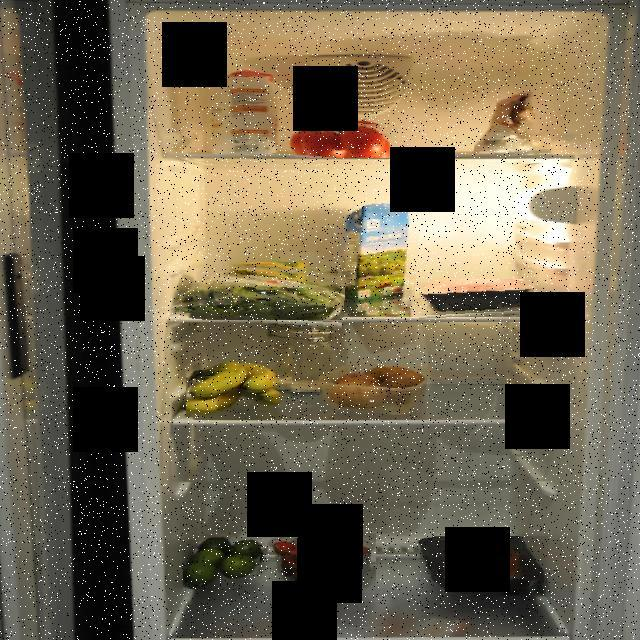banana: (186, 359, 294, 417)
beef: (418, 536, 548, 594)
flour: (255, 316, 342, 392), (474, 91, 554, 158)
ground_beef: (420, 280, 536, 320)
lime: (183, 537, 263, 590)
milk: (338, 201, 423, 315)
potato: (318, 358, 426, 416)
spinach: (179, 258, 346, 320)
strawberries: (270, 523, 376, 588)
sugar: (213, 62, 282, 154)
tomato: (288, 119, 397, 158)
